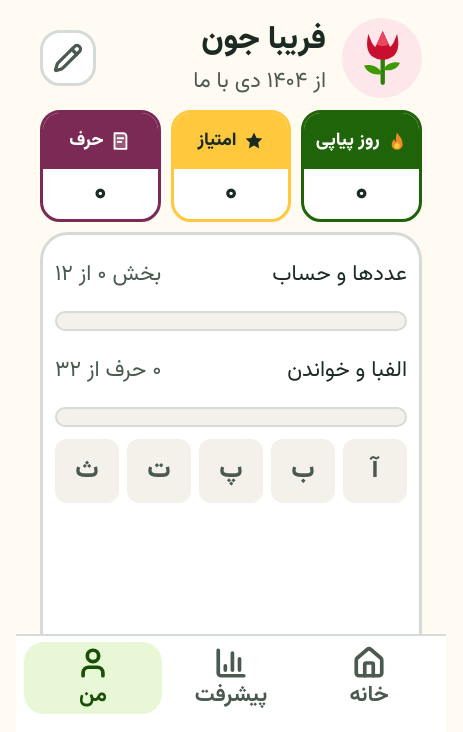
Test: Profile voice speed › hides autoplay until a family-helper long-press
Expected: the field labelled "پخش خودکار" is not shown
Press the mouse on the button with aria-label "تنظیمات خانواده" at point(267, 58), box [112,16,422,100]
Wait 3000 ms
(page scrolled)
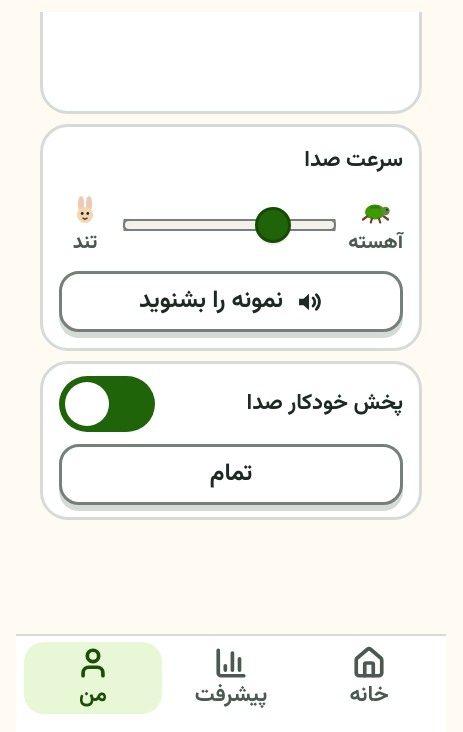
Expected: the button named "پخش خودکار" is shown, [59,376,155,432]
Expected: the button "تمام" is shown, [59,444,403,505]
